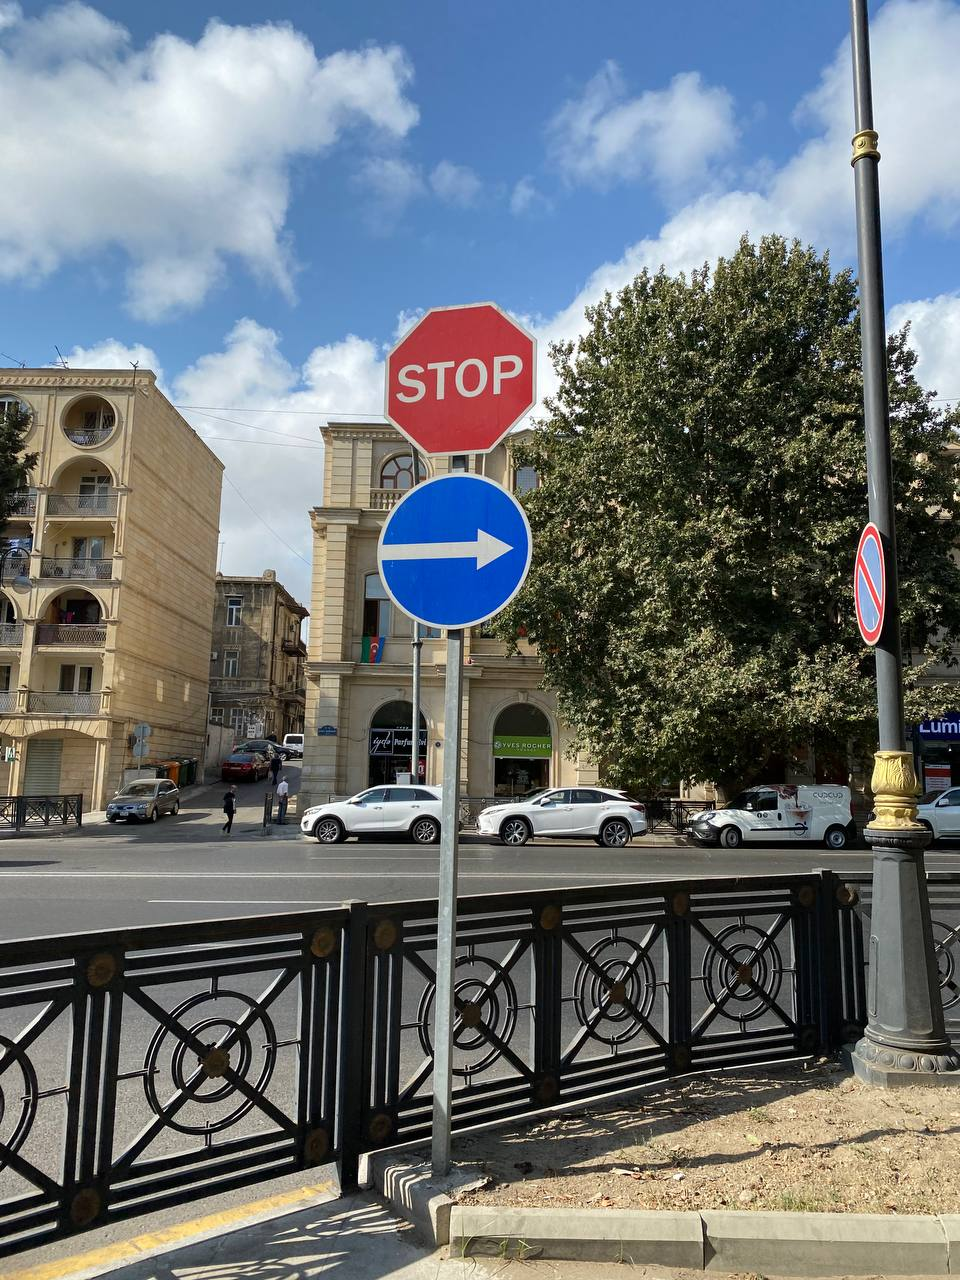No Waiting: (854, 522, 886, 646)
STOP: (383, 299, 538, 457)
Turn Right: (377, 473, 531, 630)
